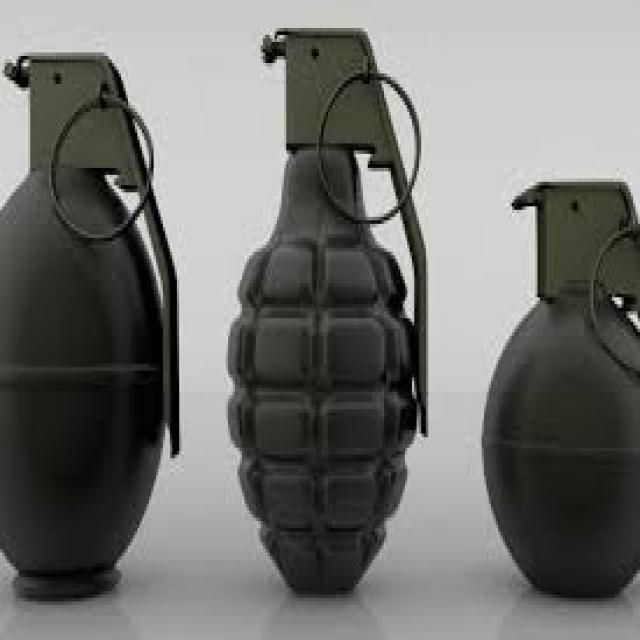grenade: (225, 12, 448, 608), (1, 33, 206, 619), (475, 172, 640, 614)
